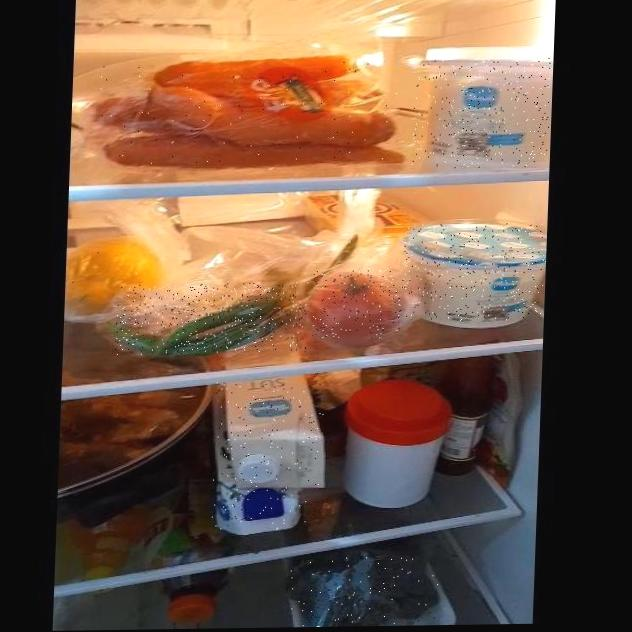broccoli: (287, 555, 442, 627)
carrot: (94, 60, 400, 166)
green chilies: (115, 282, 308, 355)
lemon: (64, 239, 166, 312)
milk: (211, 381, 325, 531)
tomato: (311, 270, 405, 339)
yoghurt: (412, 58, 551, 169), (401, 223, 547, 322)
